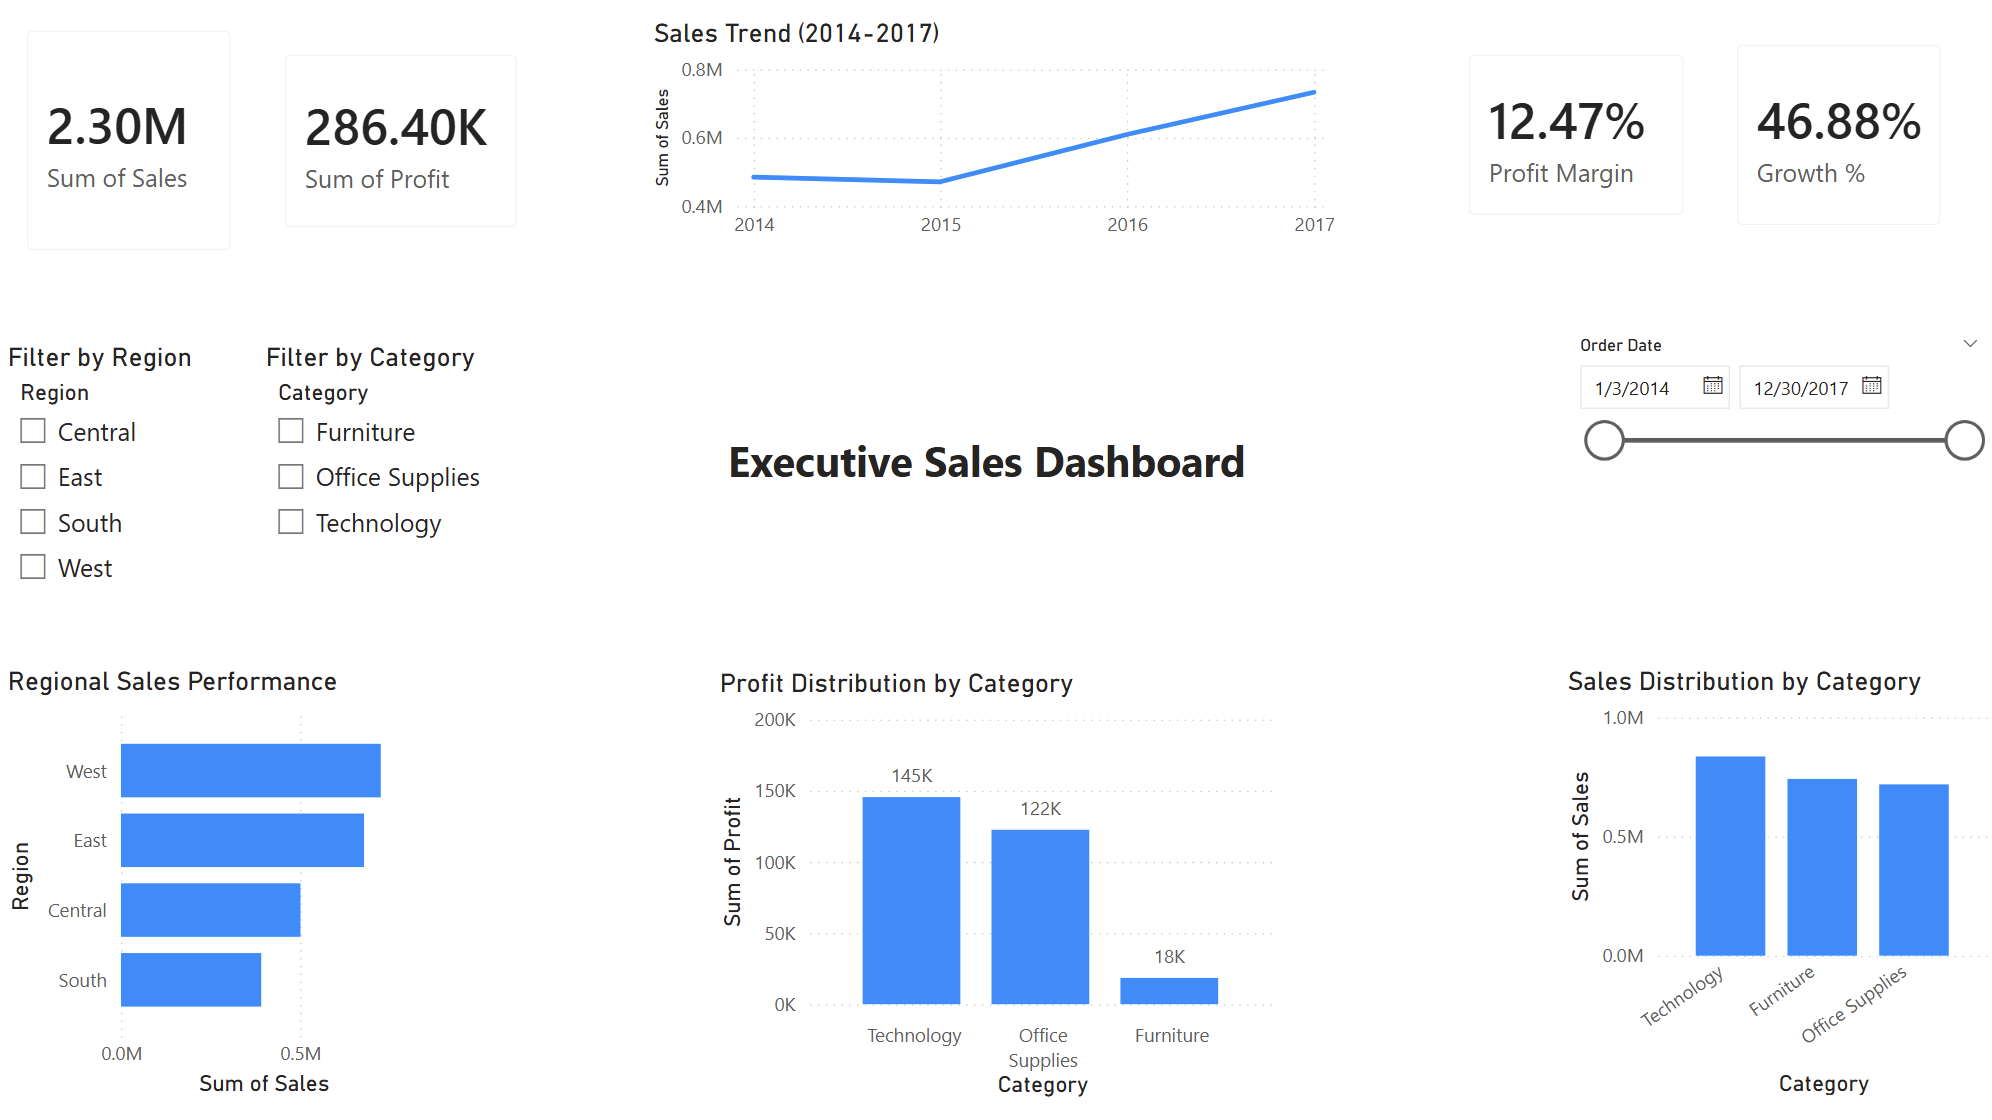

The dashboard page shown, as its layout file describes it:
{"tool":"powerbi","page":{"name":"Page 1","canvas":[1280,720],"ordinal":0},"visuals":[{"type":"cardVisual","fields":{"Data":["Sum(Orders.Sales)"]},"box":[0,3.8,165.7,175.9],"z":0},{"type":"cardVisual","fields":{"Data":["Sum(Orders.Profit)"]},"box":[165.7,19.1,183.6,145.3],"z":1000},{"type":"lineChart","title":"Sales Trend (2014-2017)","fields":{"Category":["Orders.Order Date.Variation.Date Hierarchy.Year","Orders.Order Date.Variation.Date Hierarchy.Quarter","Orders.Order Date.Variation.Date Hierarchy.Month","Orders.Order Date.Variation.Date Hierarchy.Day"],"Y":["Sum(Orders.Sales)"]},"box":[414.3,12.7,446.2,150.4],"z":2000},{"type":"clusteredBarChart","title":"Regional Sales Performance","fields":{"Category":["Orders.Region"],"Y":["Sum(Orders.Sales)"]},"box":[0,428.7,280.2,280.2],"z":3000},{"type":"columnChart","title":"Sales Distribution by Category","fields":{"Category":["Orders.Category"],"Y":["Sum(Orders.Sales)"]},"box":[999.8,428.7,280.2,280.2],"z":4000},{"type":"slicer","title":"Filter by Region","fields":{"Values":["Orders.Region"]},"box":[0,220.6,140.2,165.7],"z":5000},{"type":"slicer","title":"Filter by Category","fields":{"Values":["Orders.Category"]},"box":[165.7,220.6,156.8,149.2],"z":6000},{"type":"slicer","fields":{"Values":["Orders.Order Date"]},"box":[999.5,211.6,280.5,147.9],"z":7000},{"type":"cardVisual","fields":{"Data":["Orders.Profit Margin"]},"box":[924.3,19.1,172.1,137.7],"z":8000},{"type":"cardVisual","fields":{"Data":["Orders.Growth %"]},"box":[1096.4,12.7,165.7,150.4],"z":9000},{"type":"textbox","box":[461.5,272.8,353.1,45.9],"z":10000},{"type":"clusteredColumnChart","title":"Profit Distribution by Category","fields":{"Category":["Orders.Category"],"Y":["Sum(Orders.Profit)"]},"box":[456,429,366,280],"z":11000}]}

Visuals, with their boxes in screenshot pixels (x1, y1, x2, y2), scaled from the page's 1280x720 canvas onto the 1992x1120 screenshot:
cardVisual - Sum(Orders.Sales): box=[0, 6, 258, 280]
cardVisual - Sum(Orders.Profit): box=[258, 30, 544, 256]
"Sales Trend (2014-2017)" lineChart: box=[645, 20, 1339, 254]
"Regional Sales Performance" clusteredBarChart: box=[0, 667, 436, 1103]
"Sales Distribution by Category" columnChart: box=[1556, 667, 1991, 1103]
"Filter by Region" slicer: box=[0, 343, 218, 601]
"Filter by Category" slicer: box=[258, 343, 502, 575]
slicer - Orders.Order Date: box=[1555, 329, 1991, 559]
cardVisual - Orders.Profit Margin: box=[1438, 30, 1706, 244]
cardVisual - Orders.Growth %: box=[1706, 20, 1964, 254]
textbox: box=[718, 424, 1268, 496]
"Profit Distribution by Category" clusteredColumnChart: box=[710, 667, 1279, 1103]
